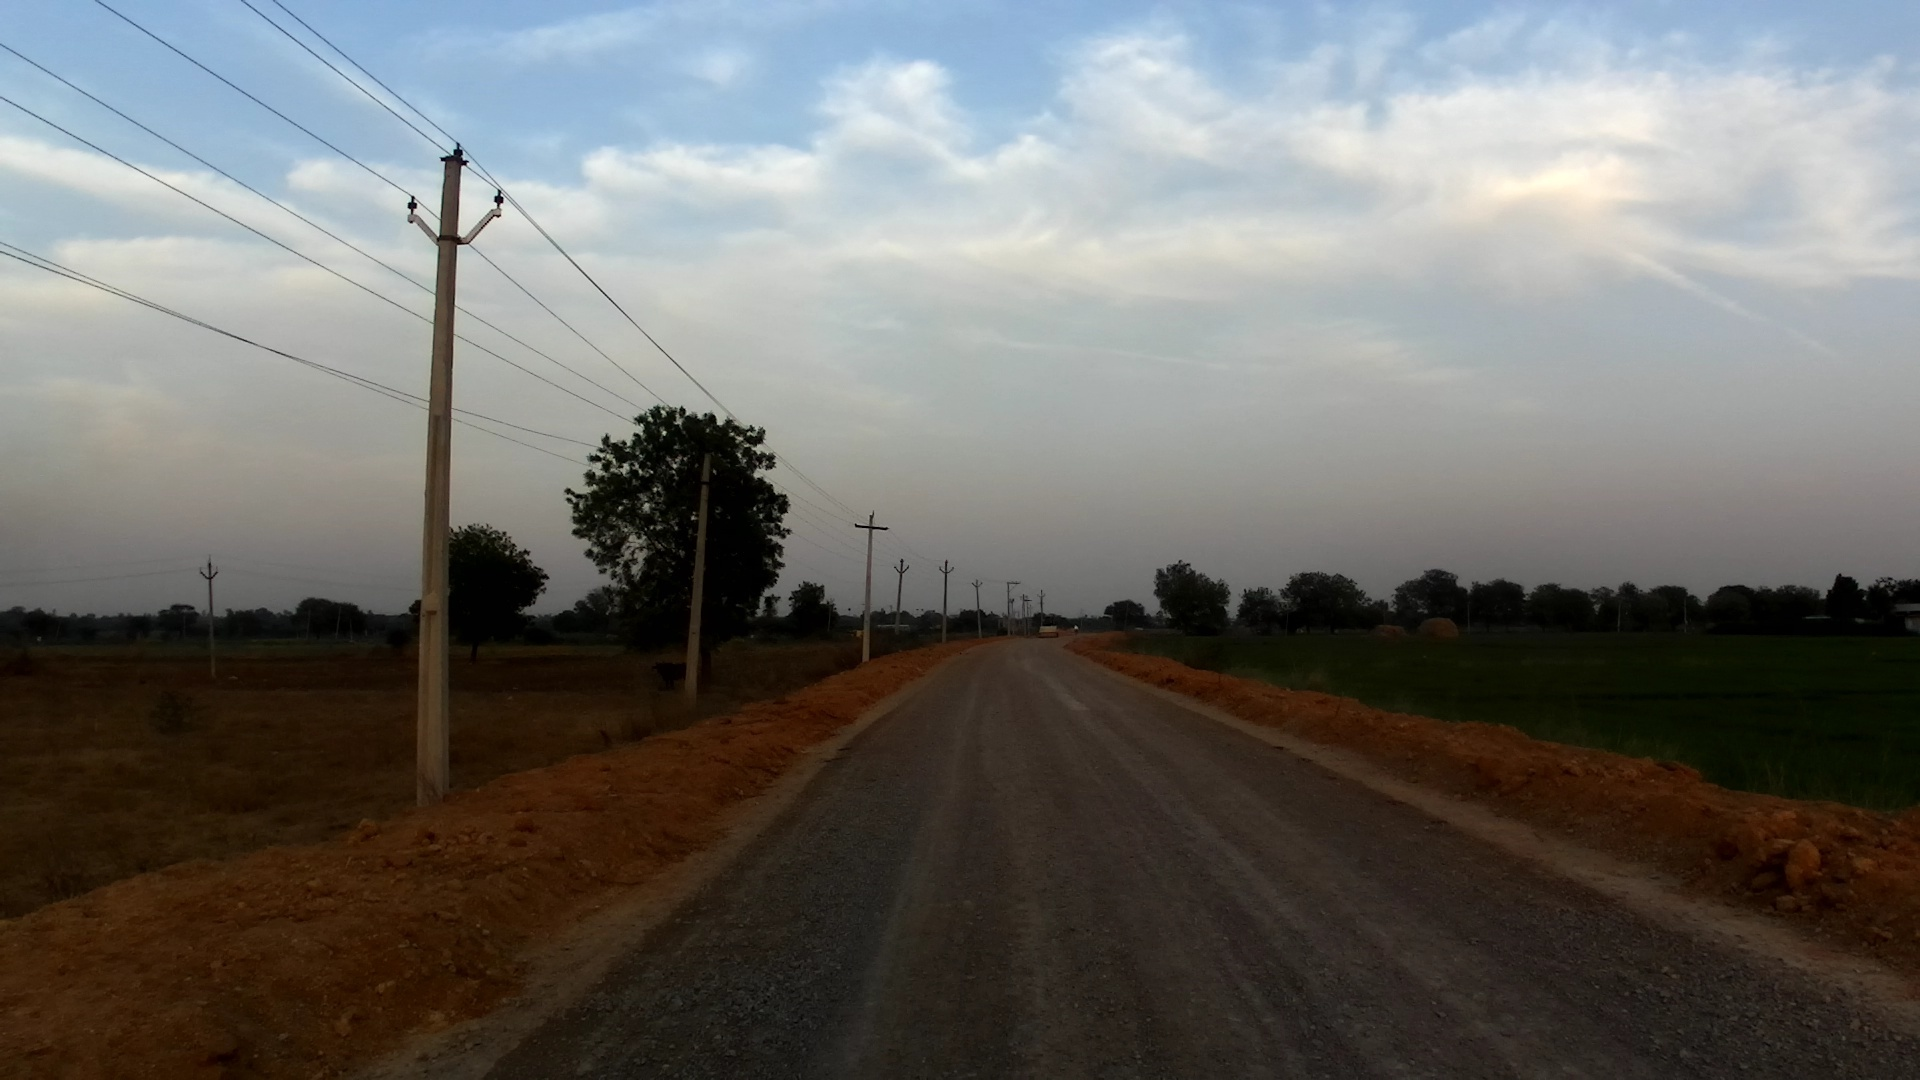vehicle fallback: (1040, 626, 1062, 641), (1072, 622, 1083, 642)
